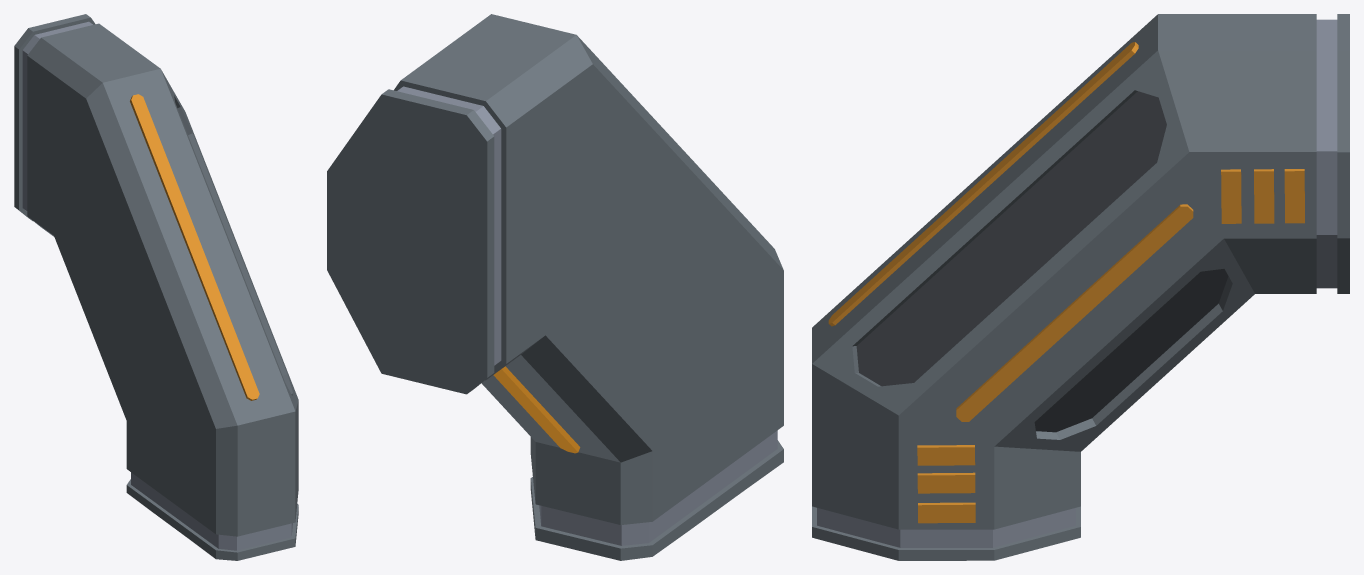
File: SM_Roof_ventilation_corner.glb
The picture shows the model from 3 angles, left to right: view 1: azimuth 30°, elevation 25°; view 2: azimuth 150°, elevation 25°; view 3: azimuth 270°, elevation 25°; orthographic projection. The views are drawn at different scales.
Parts seen in each view (by area): view 1: SM_Roof_ventilation_corner; view 2: SM_Roof_ventilation_corner; view 3: SM_Roof_ventilation_corner.
Boxes of the visible parts, x1=… form: SM_Roof_ventilation_corner: x1=14, y1=14, x2=298, y2=560; SM_Roof_ventilation_corner: x1=327, y1=14, x2=783, y2=560; SM_Roof_ventilation_corner: x1=812, y1=14, x2=1349, y2=560.
Size of the model in its own units: 0.3096 by 1 by 1.
Materials: 1 (1 with a texture image).
